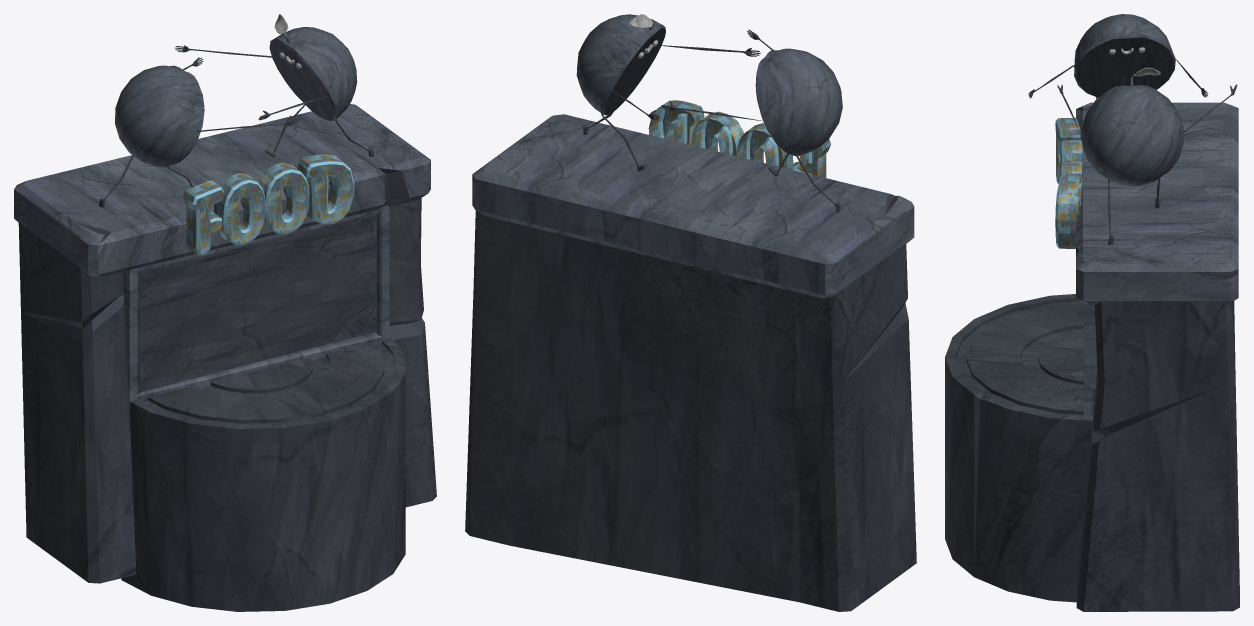
Rendered from StandFood02.glb.
The picture shows the model from 3 angles, left to right: view 1: azimuth 30°, elevation 25°; view 2: azimuth 150°, elevation 25°; view 3: azimuth 270°, elevation 25°; orthographic projection. The views are drawn at different scales.
Visible parts, largest first — view 1: StandFood02; view 2: StandFood02; view 3: StandFood02.
Part boxes in pixels (x1,y1,x2,y2): StandFood02: (14,14,436,611); StandFood02: (465,14,916,611); StandFood02: (945,14,1239,611).
Size of what is drawn, in the model's own units: 11.13 by 15.18 by 8.14.
1 material, 1 textured.
